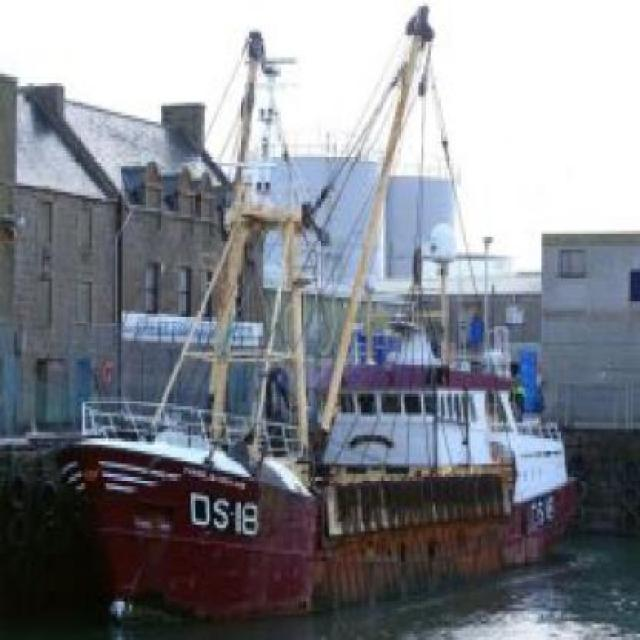fish-b: (51, 20, 597, 628)
